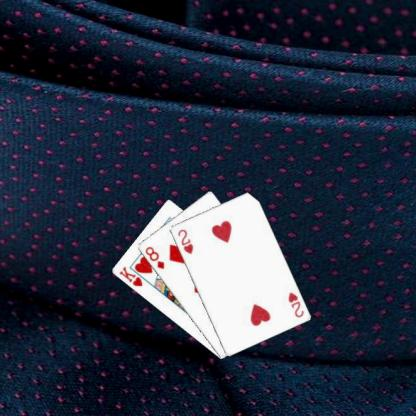2H: (285, 289, 305, 319), (175, 226, 194, 255)
8D: (142, 244, 165, 270)
KH: (116, 264, 144, 288)
